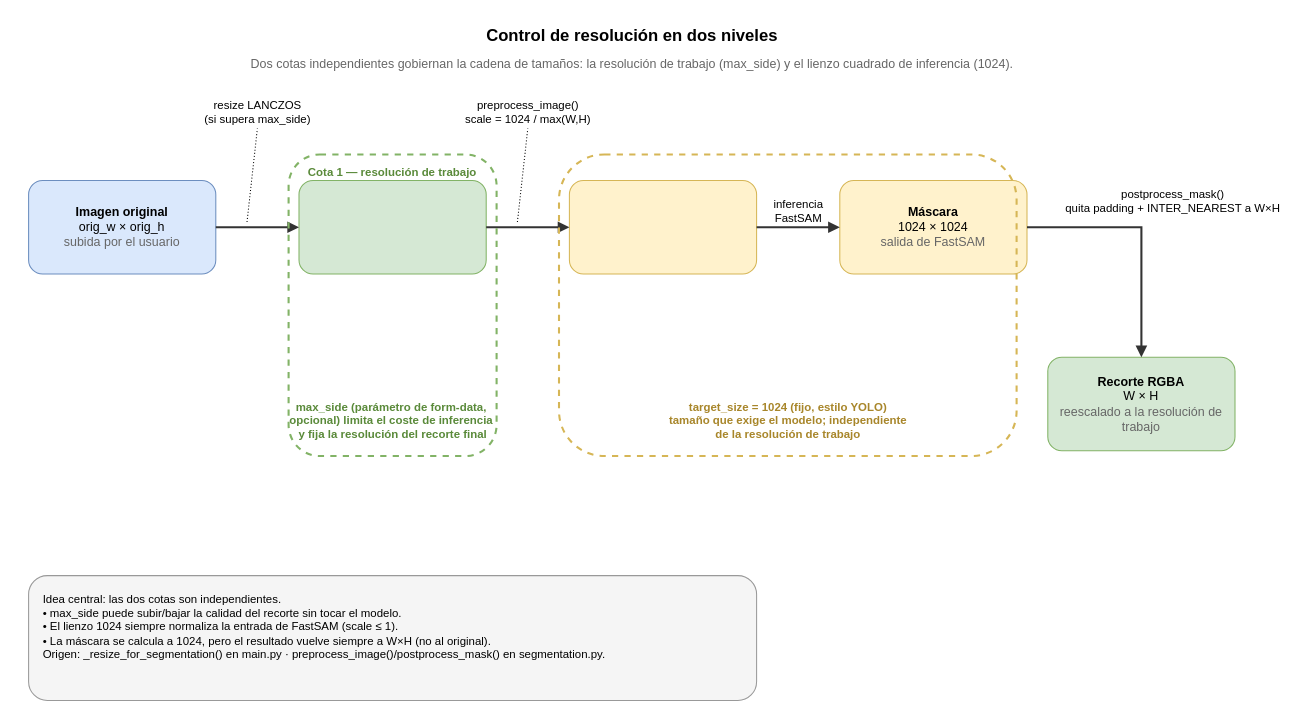
The diagram is 1297 pixels wide and 719 high, and some of its shapes have lost their labels. Here are the shapes that lost their labels. From the top down, the box of each, then its label:
(298, 179, 486, 274): Resolución de trabajo W × H max(W,H) ≤ max_side
(568, 179, 757, 274): Lienzo de inferencia 1024 × 1024 letterbox cuadrado + padding gris (114)
(557, 153, 1017, 457): Cota 2 — lienzo de inferencia
